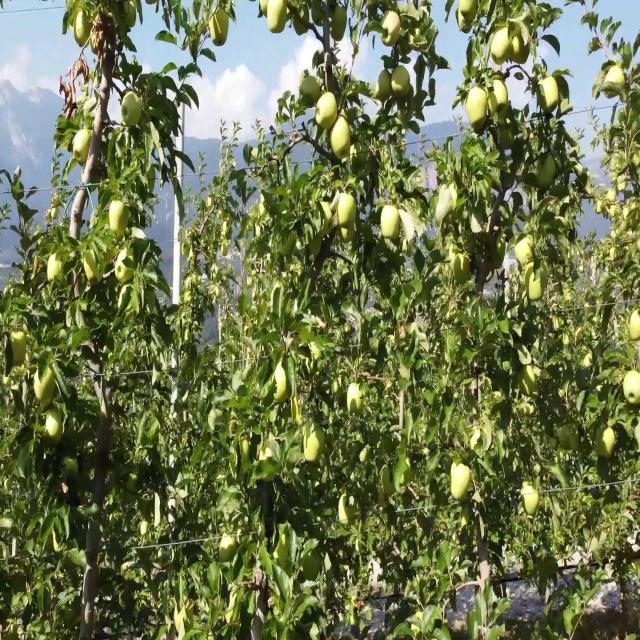apple: (92, 14, 116, 57), (316, 92, 339, 135), (468, 85, 488, 133), (332, 120, 352, 164), (452, 462, 472, 505), (36, 369, 57, 409), (336, 191, 358, 228), (112, 199, 131, 240), (604, 63, 625, 100), (392, 63, 412, 101), (488, 78, 508, 116), (540, 78, 559, 116), (512, 28, 531, 66), (124, 92, 144, 128), (536, 156, 556, 192), (268, 0, 288, 36), (492, 85, 510, 123), (596, 426, 616, 460), (44, 412, 64, 446), (300, 78, 322, 108), (496, 120, 517, 151), (384, 206, 402, 242), (384, 14, 402, 50), (212, 14, 230, 50), (492, 28, 510, 64), (624, 369, 640, 409), (272, 369, 289, 405), (304, 433, 324, 462), (468, 106, 488, 135), (84, 248, 100, 284), (176, 597, 194, 628), (116, 255, 135, 284), (376, 71, 392, 105), (348, 383, 365, 414), (220, 533, 238, 562), (520, 369, 538, 398), (516, 241, 535, 268), (304, 554, 323, 581), (100, 49, 117, 78), (460, 1, 478, 28), (12, 334, 28, 364), (352, 142, 367, 174), (456, 255, 472, 284), (332, 14, 348, 43), (340, 497, 356, 526), (492, 241, 507, 270), (332, 7, 348, 34), (320, 206, 334, 236), (76, 135, 89, 165), (524, 490, 539, 516), (296, 7, 309, 36), (88, 156, 101, 185), (528, 277, 544, 300), (400, 35, 415, 59), (308, 234, 324, 256), (280, 234, 296, 256), (292, 398, 303, 427), (64, 455, 79, 476), (496, 106, 511, 126), (312, 7, 326, 28), (632, 312, 640, 341), (340, 227, 355, 242), (524, 263, 535, 283), (128, 476, 139, 494), (493, 21, 509, 32), (220, 241, 231, 256), (380, 490, 389, 508), (572, 433, 580, 453), (616, 177, 626, 192), (584, 355, 593, 370), (184, 291, 193, 306), (184, 277, 192, 293), (192, 277, 201, 290), (596, 199, 604, 213), (620, 177, 627, 192), (608, 191, 616, 204), (224, 227, 232, 240), (612, 206, 619, 219)
